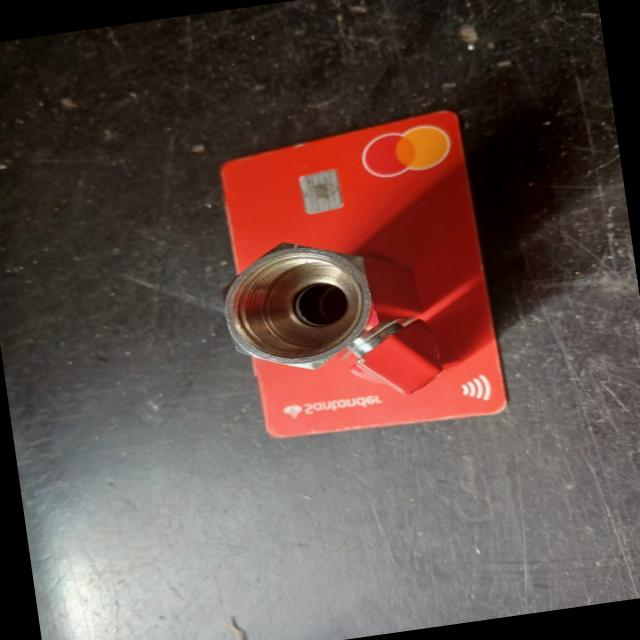cartao: (200, 108, 508, 450)
rosca_interna: (212, 230, 378, 382)
